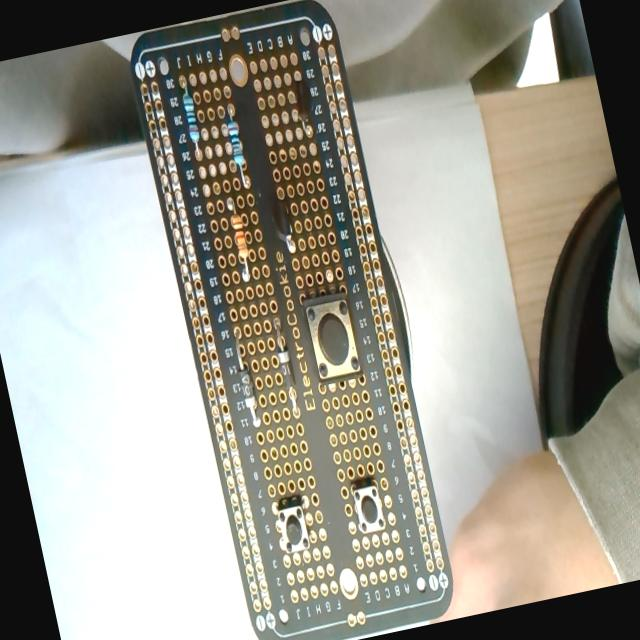diode: (228, 326, 262, 428), (270, 314, 302, 414)
resistor: (226, 200, 256, 286), (225, 114, 251, 188), (178, 86, 204, 158)
switch: (302, 291, 364, 384), (272, 494, 314, 556), (349, 477, 388, 536)
transistor: (269, 200, 298, 260), (290, 78, 314, 134)
